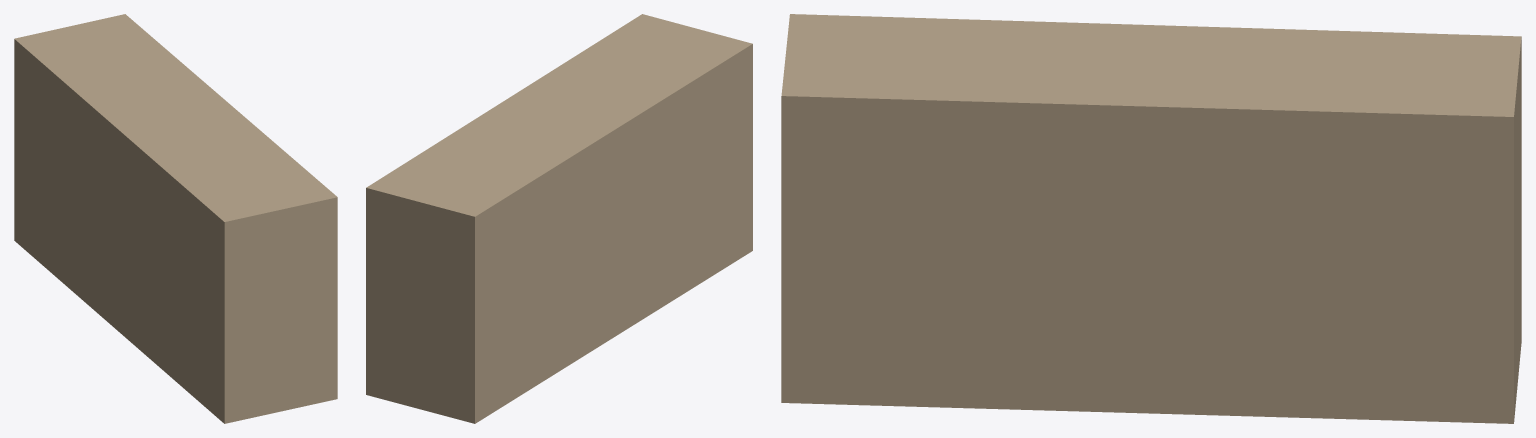
File: bld_391938446.dae
3 renders of one model, left to right at view 1: azimuth 30°, elevation 25°; view 2: azimuth 150°, elevation 25°; view 3: azimuth 270°, elevation 25°, orthographic. The views are drawn at different scales.
Visible parts, largest first — view 1: JD Classics; view 2: JD Classics; view 3: JD Classics.
Boxes of the visible parts, x1=… form: JD Classics: x1=14, y1=14, x2=337, y2=423; JD Classics: x1=366, y1=14, x2=752, y2=423; JD Classics: x1=781, y1=14, x2=1521, y2=423.
Size of the model in its own units: 5.76 by 17.48 by 8.
